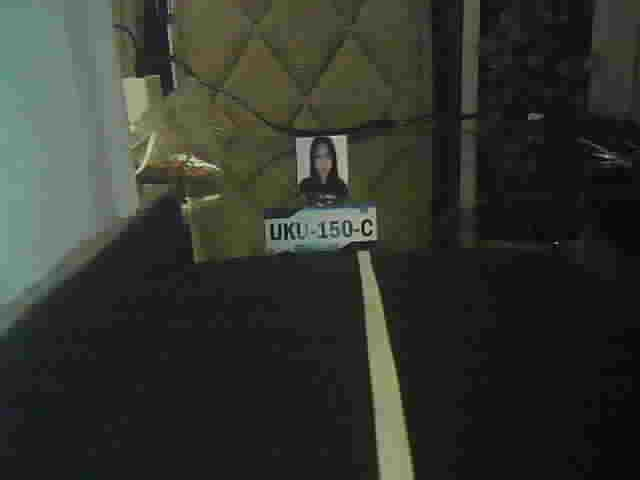PLACA: (261, 201, 378, 254)
ROSTRO: (298, 135, 351, 192)
